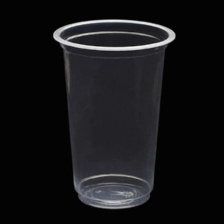glass: (46, 13, 179, 214)
